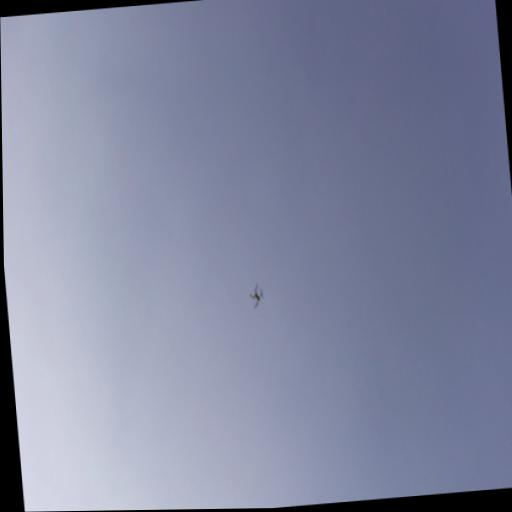drones: (248, 282, 266, 310)
